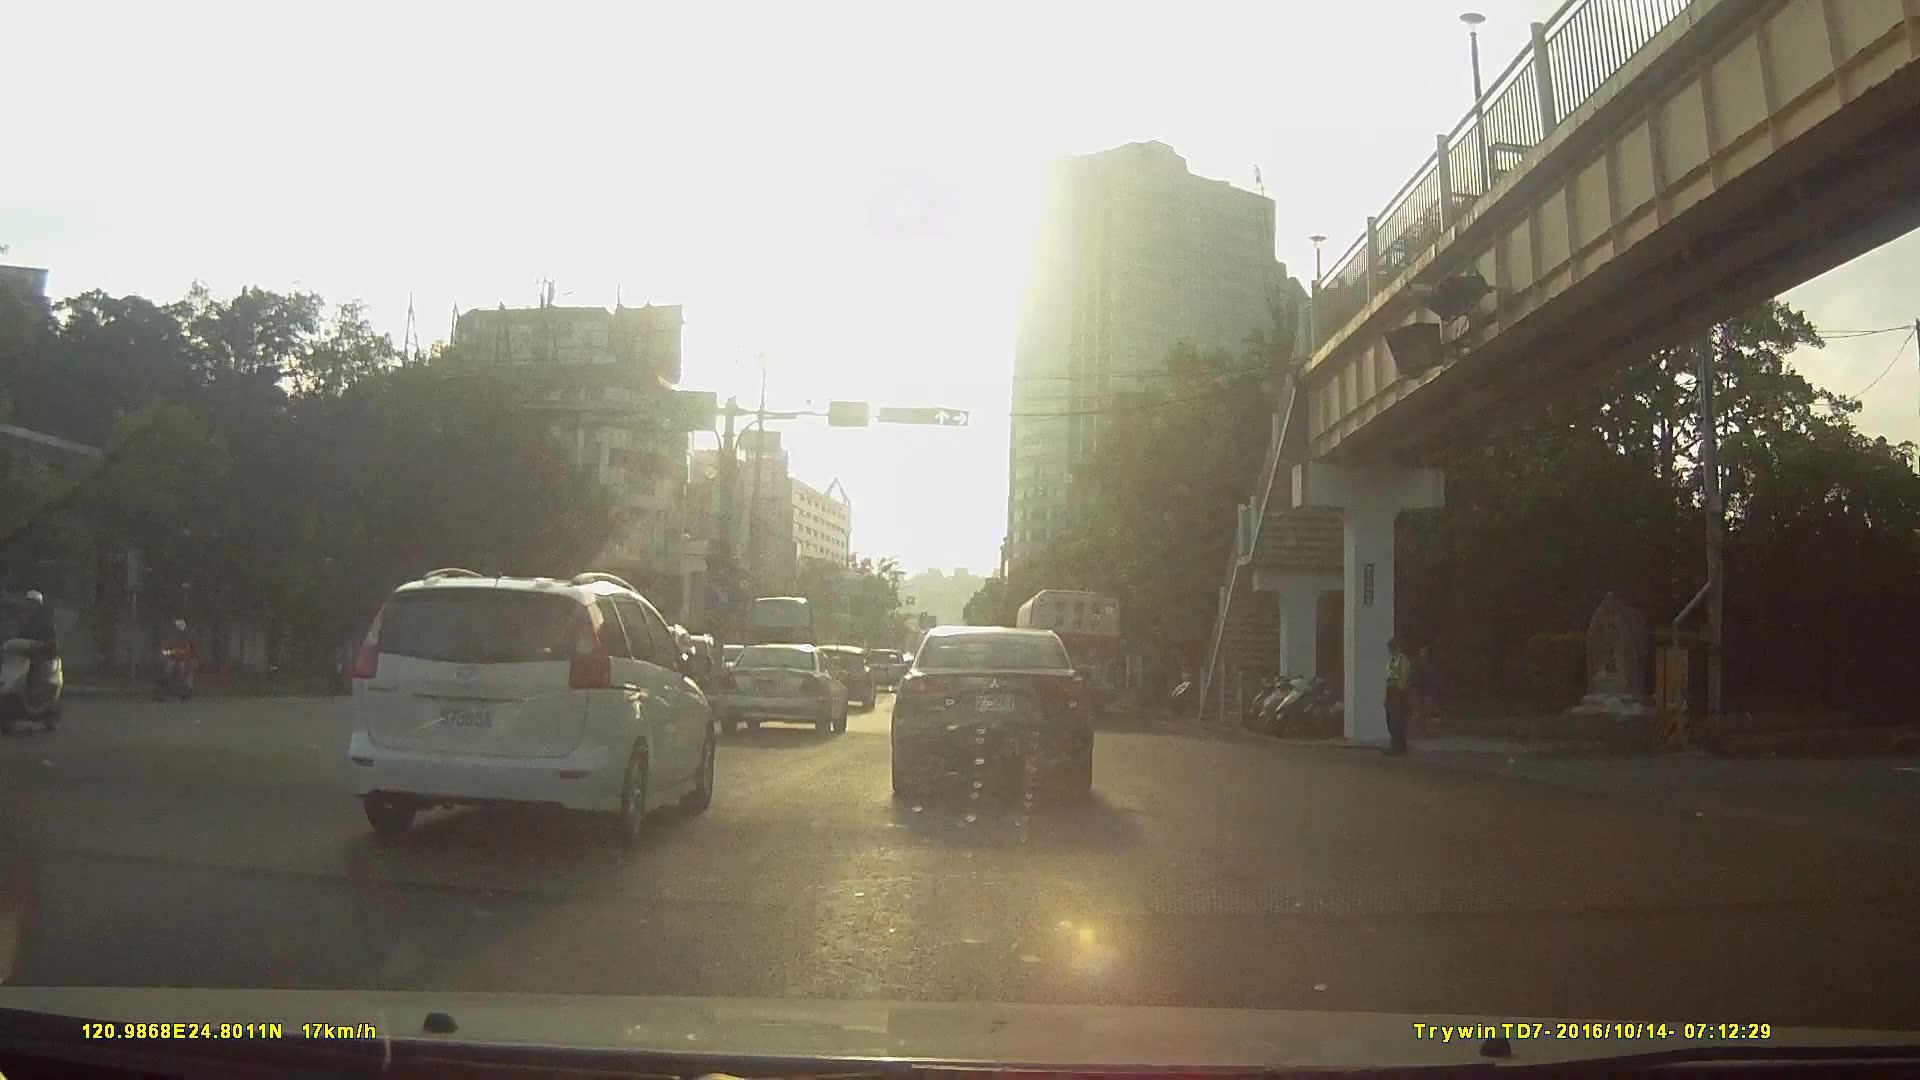pedestrian: (1382, 633, 1421, 758)
rider: (1, 593, 66, 734), (149, 619, 201, 699)
vehicle: (345, 560, 713, 840), (887, 618, 1091, 801), (1012, 583, 1118, 711), (711, 638, 847, 733), (738, 586, 815, 668), (804, 636, 873, 706), (856, 639, 905, 688)
